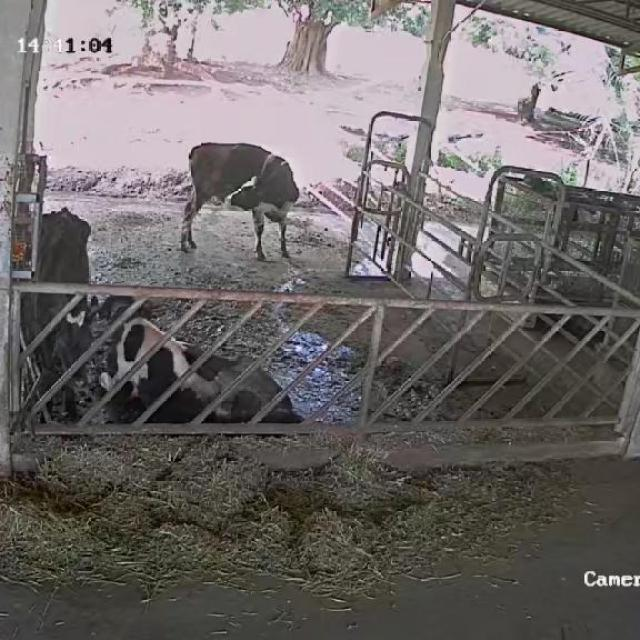lying down: (94, 281, 306, 435)
standing: (173, 137, 298, 273), (28, 208, 98, 422)
